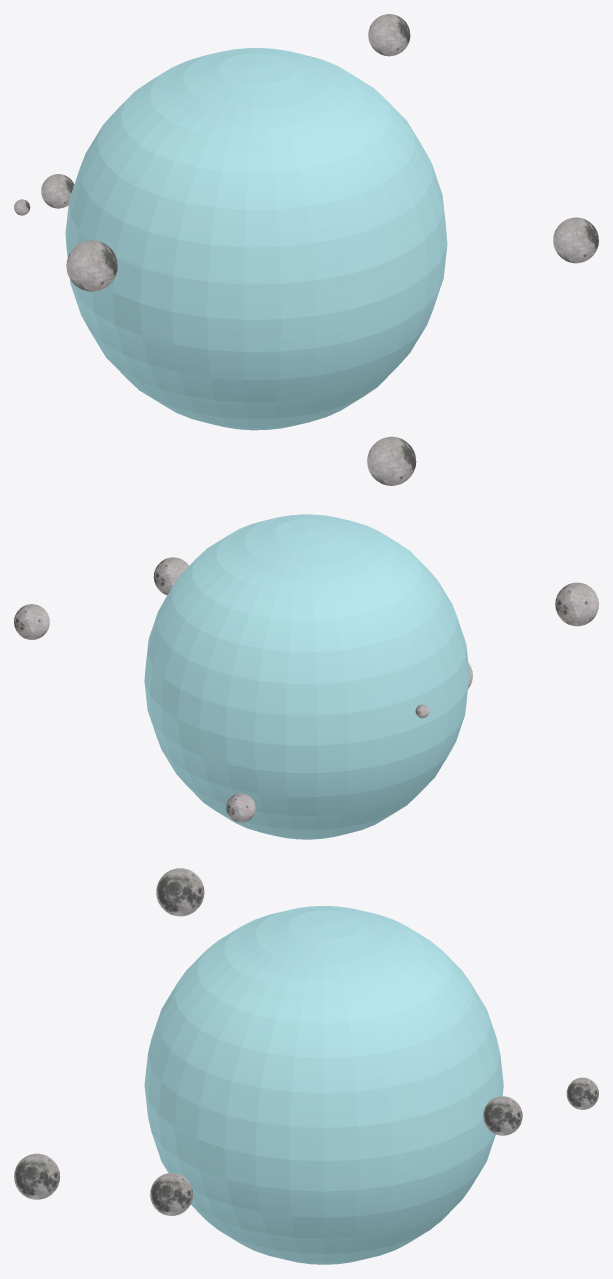
The model's file is uranol.glb.
The picture shows the model from 3 angles, top to bottom: view 1: azimuth 30°, elevation 25°; view 2: azimuth 150°, elevation 25°; view 3: azimuth 270°, elevation 25°; orthographic projection. The views are drawn at different scales.
Parts seen in each view (by area): view 1: Esfera, oberon, titania, umbriel, ariel, miranda; view 2: Esfera, oberon, ariel, umbriel, miranda; view 3: Esfera, oberon, titania, umbriel, ariel, miranda.
Boxes of the visible parts, x1,y1,x2,y2 form: Esfera: (65,48,447,430); oberon: (66,240,117,291); titania: (367,436,416,485); umbriel: (553,217,598,263); ariel: (368,14,410,56); miranda: (41,174,74,208); Esfera: (144,514,469,839); oberon: (555,582,598,626); ariel: (14,604,49,639); umbriel: (153,557,188,595); miranda: (226,793,255,822); Esfera: (144,906,503,1264); oberon: (156,868,204,916); titania: (14,1153,60,1199); umbriel: (150,1173,192,1215); ariel: (483,1096,522,1135); miranda: (566,1077,598,1109).
Bounding box in the file's own units: 3.15 × 2 × 3.26.
Materials: 7 (7 with a texture image).
